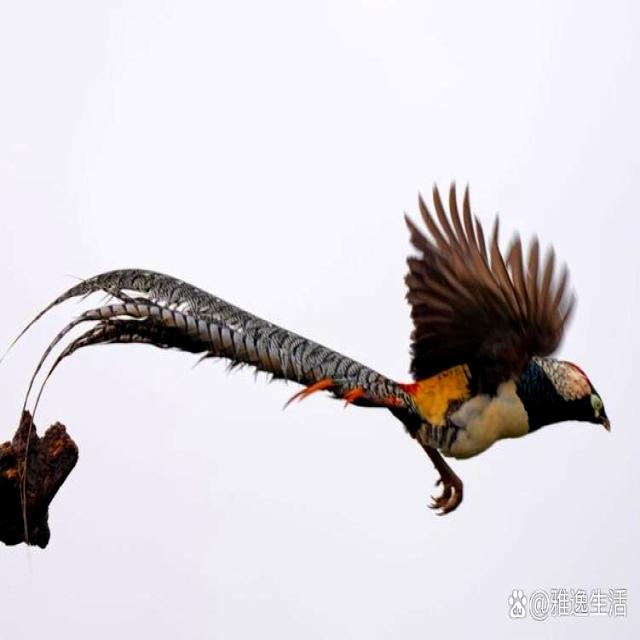Chrysolophus amherstiae: (16, 270, 458, 448)
